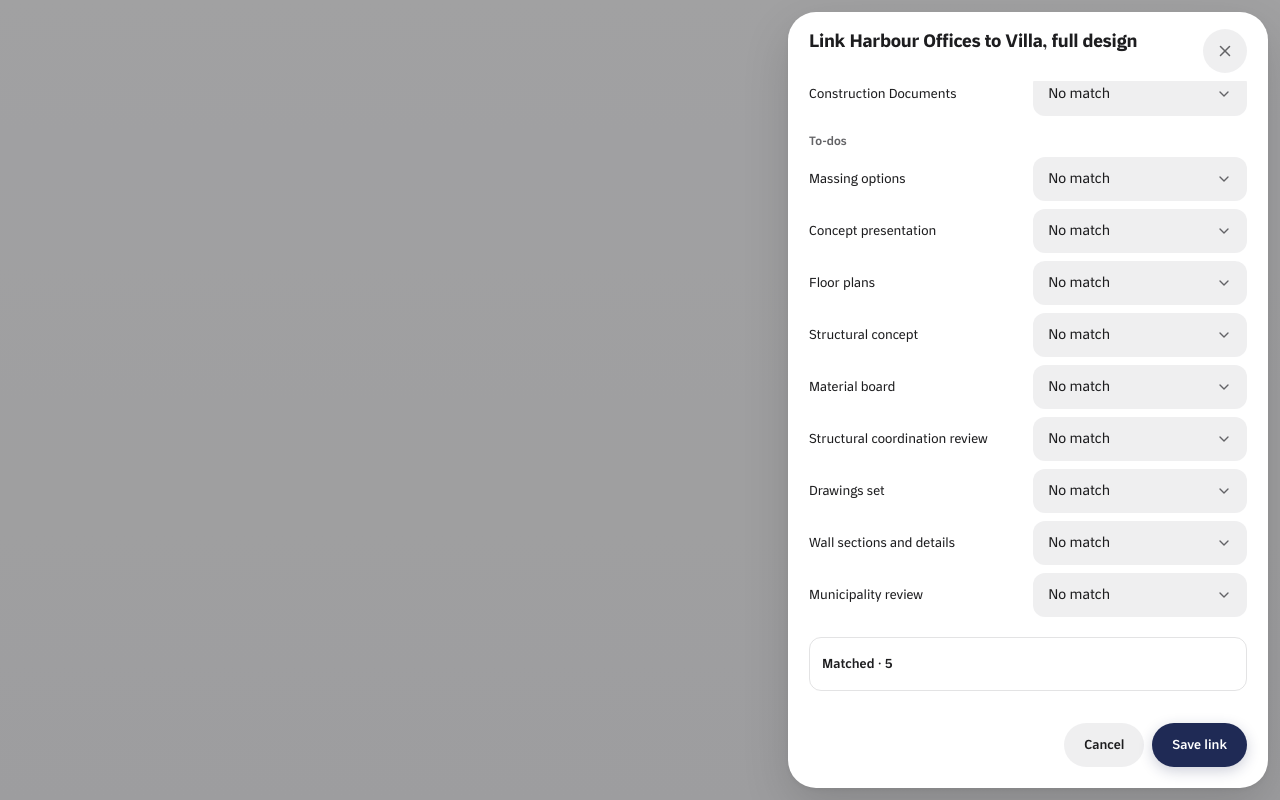
Test: Link an older project › names the project and the template, says how many parts match, and shows the parts with no match first (ADM-11)
The image size is (1280, 800).
(page scrolled)
Click the heading "Matched · 5".
click(857, 663)  # box [822,655,893,671]
(page scrolled)
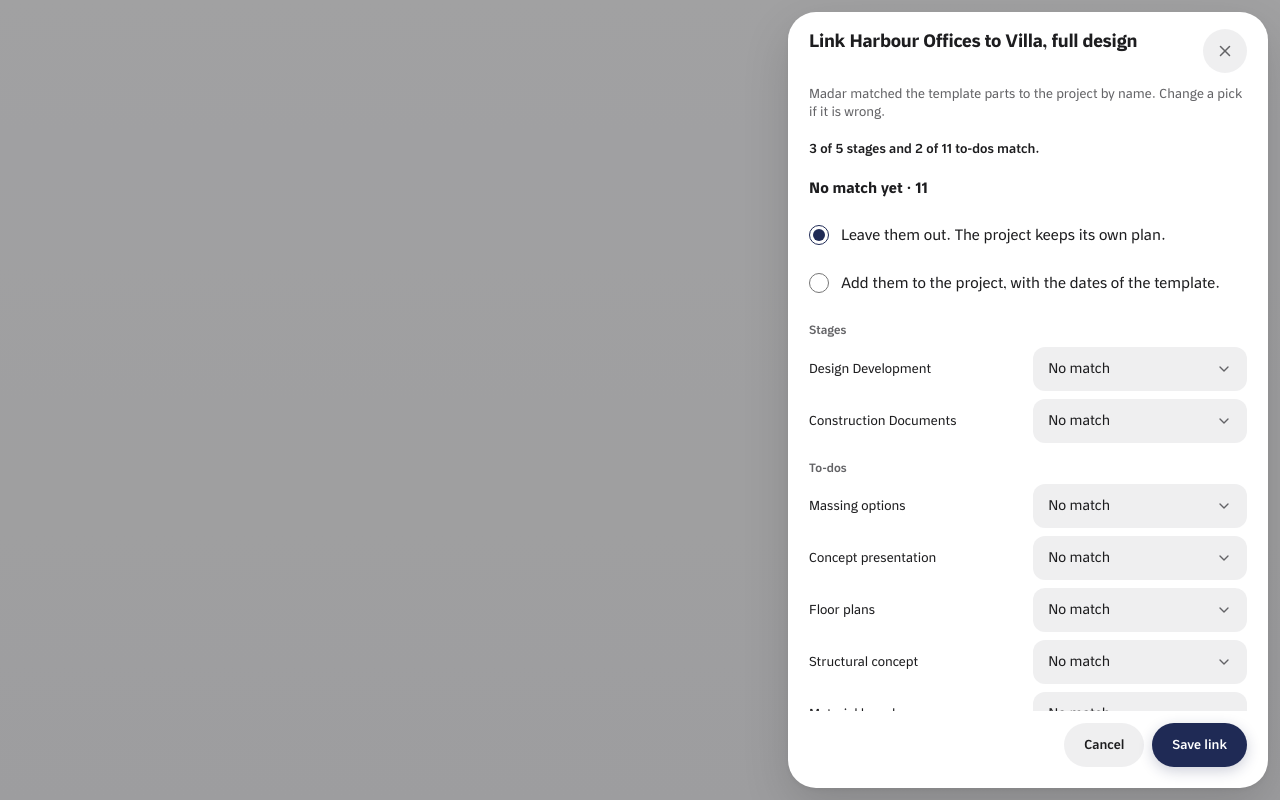
Expected: the text "3 of 5 stages and 2 of 11 to-dos match." is shown, [809,140,1040,156]
Expected: the dropdown named "Project item for Design Development" is shown, [1033,346,1247,390]
Expected: the radio button labelled "Leave them out. The project keeps its own plan." is checked, [809,225,829,245]
